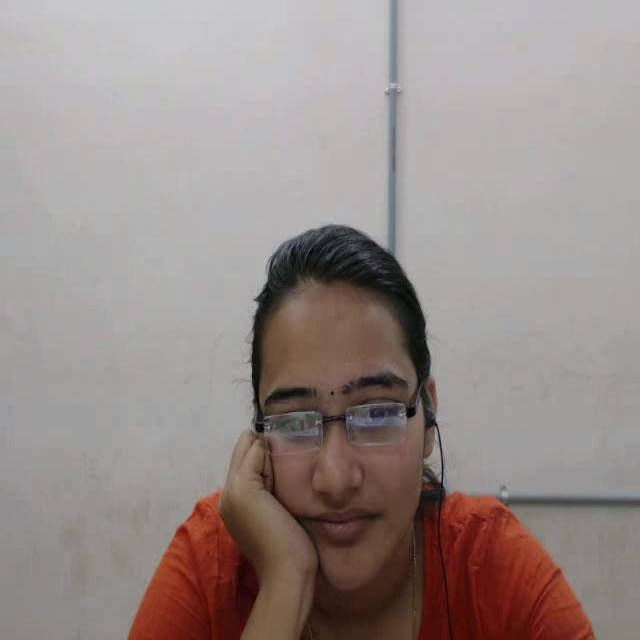Bored: (156, 187, 524, 640)
